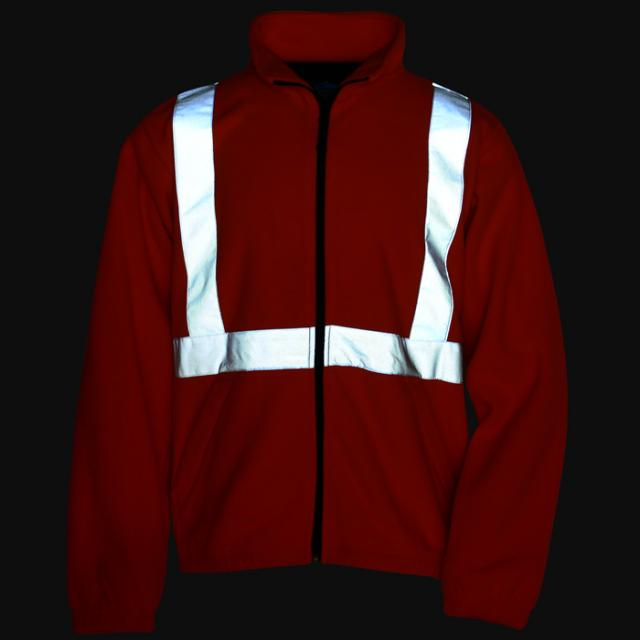Reflective-Jacket: (17, 18, 589, 633)
